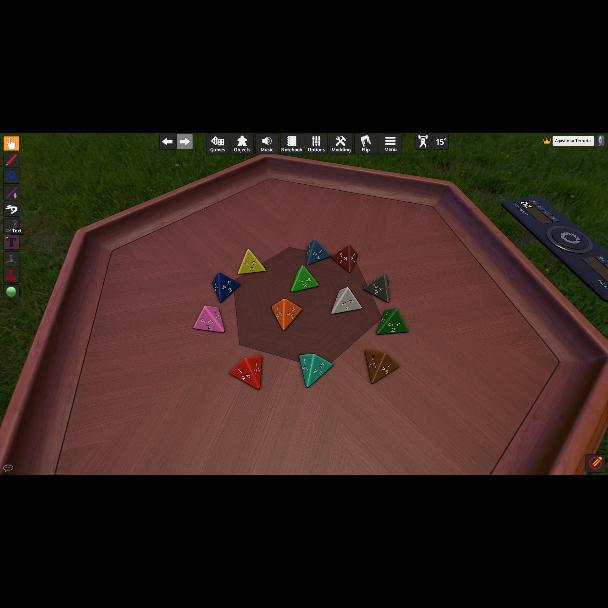d4: (364, 349, 400, 383), (299, 353, 331, 387), (230, 356, 262, 390), (271, 299, 301, 331), (194, 306, 224, 334), (331, 288, 361, 316), (213, 272, 239, 304), (377, 308, 408, 334), (362, 274, 388, 304), (330, 245, 356, 273), (291, 266, 317, 292), (238, 249, 264, 275), (306, 239, 328, 267)
